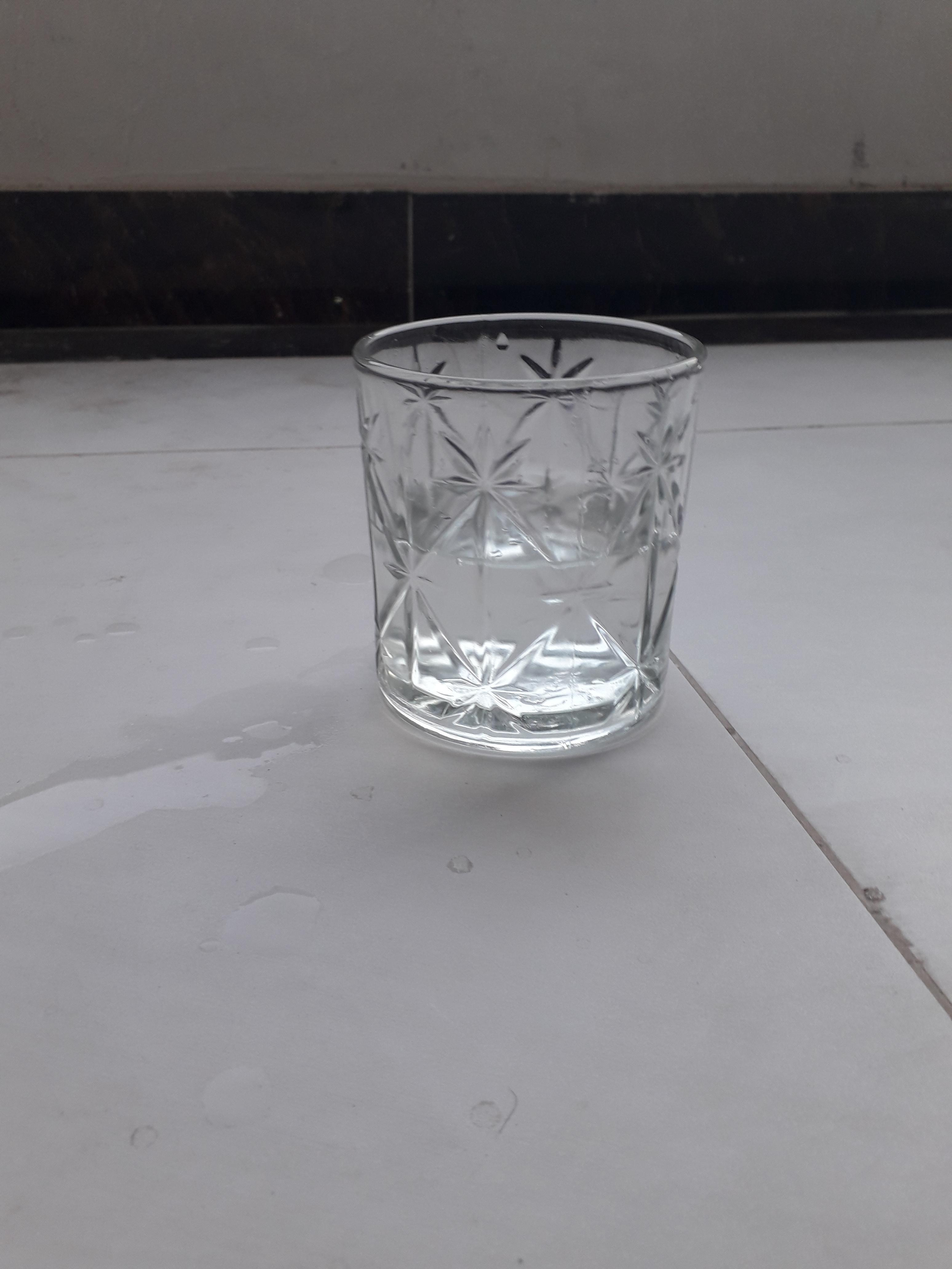glass-normal: (355, 320, 703, 767)
